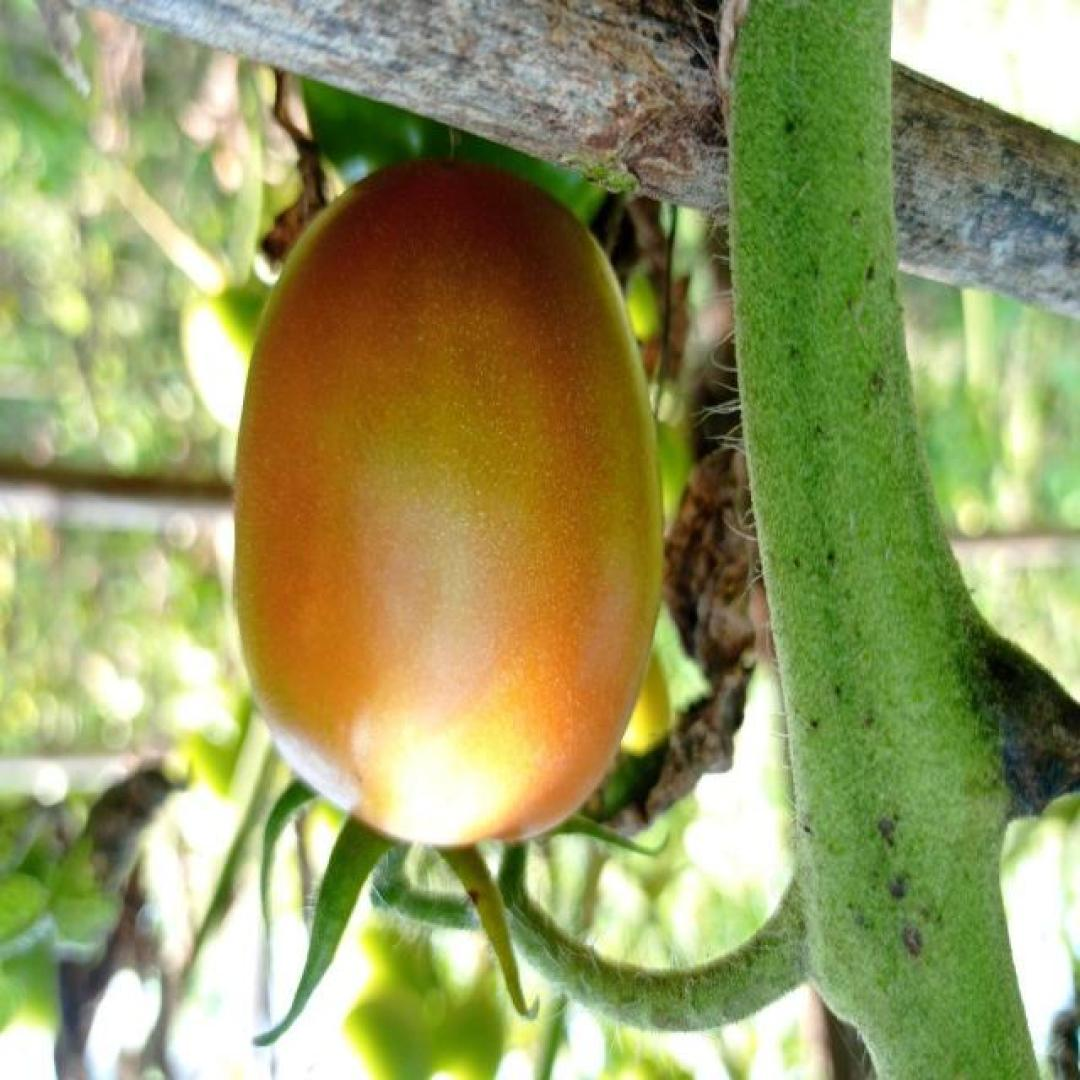setengah_matang: (230, 156, 668, 850)
